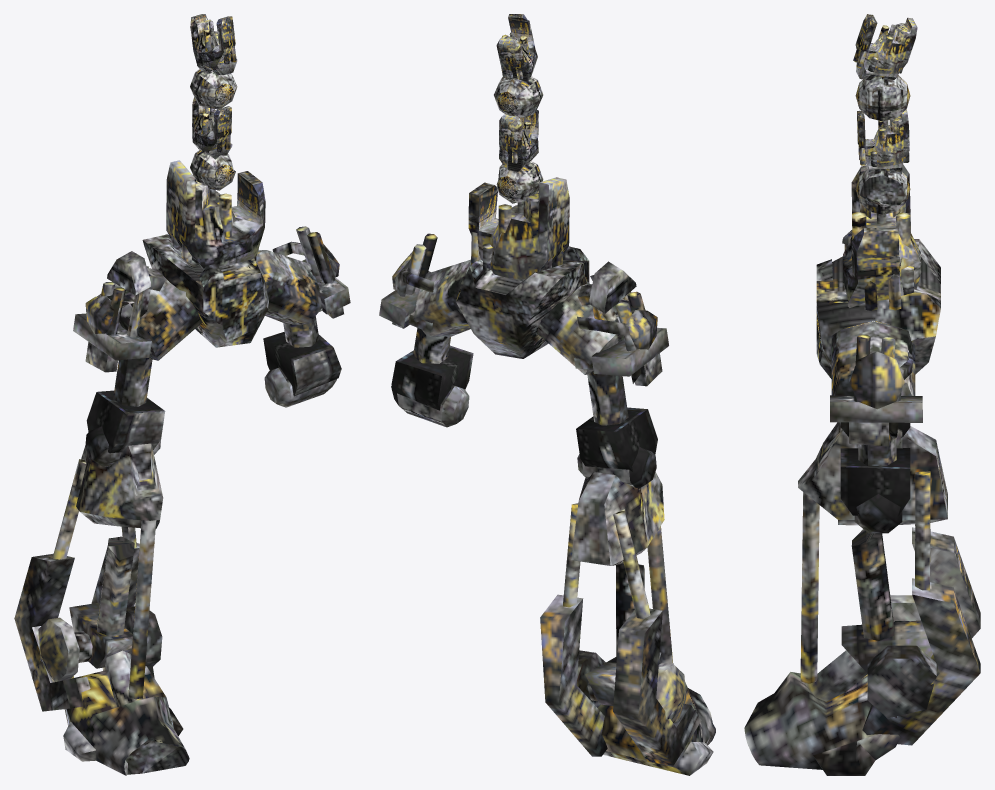
Rendered from DeadOptimusLowerBody.obj.
3 views of the same model, side by side, from view 1: azimuth 30°, elevation 25°; view 2: azimuth 150°, elevation 25°; view 3: azimuth 270°, elevation 25° (orthographic). The views are drawn at different scales.
Parts seen in each view (by area): view 1: GIB_LowBody2_SKEL; view 2: GIB_LowBody2_SKEL; view 3: GIB_LowBody2_SKEL.
Part boxes in pixels (x1,y1,x2,y2): GIB_LowBody2_SKEL: (14,14,350,775); GIB_LowBody2_SKEL: (379,14,715,775); GIB_LowBody2_SKEL: (744,14,980,775).
Bounding box in the file's own units: 115 × 270 × 72.29.
Materials: 1 (1 with a texture image).
